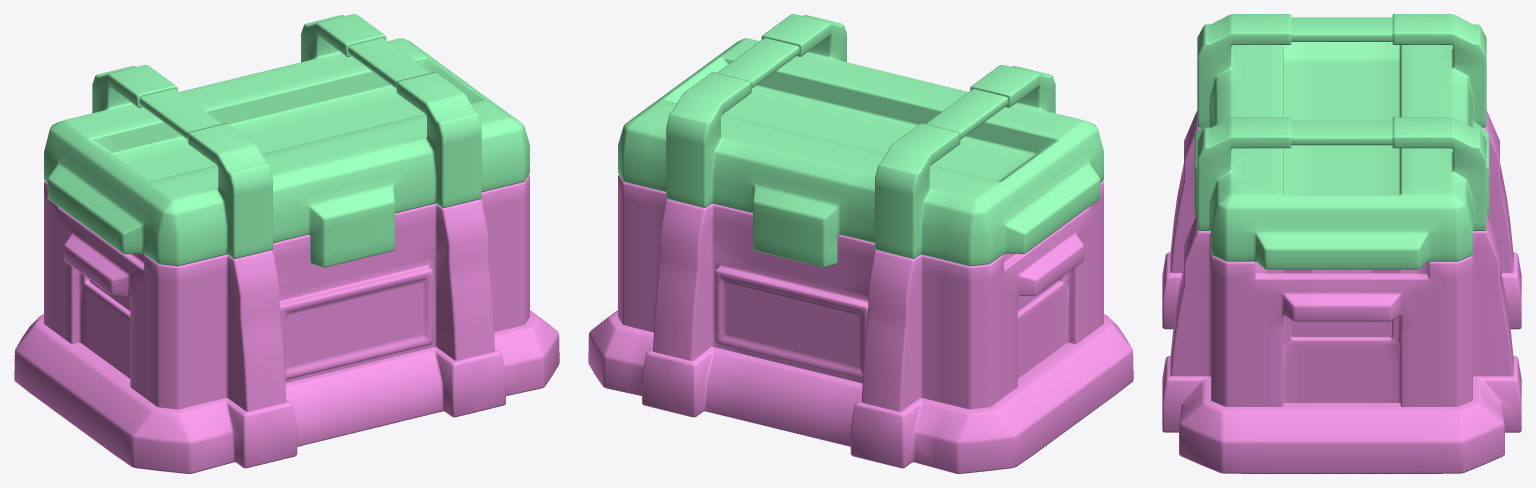
Rendered from RadioActive.fbx.
3 views of the same model, side by side, from view 1: azimuth 30°, elevation 25°; view 2: azimuth 150°, elevation 25°; view 3: azimuth 270°, elevation 25° (orthographic).
Visible parts, largest first — view 1: cajaBase_low NO UV, cajaTapa_low NO UV; view 2: cajaBase_low NO UV, cajaTapa_low NO UV; view 3: cajaBase_low NO UV, cajaTapa_low NO UV.
Boxes of the visible parts, left/top/right/bottom form: cajaBase_low NO UV: left=14, top=175, right=559, bottom=473; cajaTapa_low NO UV: left=44, top=14, right=529, bottom=267; cajaBase_low NO UV: left=588, top=175, right=1133, bottom=473; cajaTapa_low NO UV: left=618, top=14, right=1103, bottom=267; cajaBase_low NO UV: left=1162, top=111, right=1521, bottom=473; cajaTapa_low NO UV: left=1194, top=14, right=1489, bottom=269.
Size of the model in its own units: 115 by 74.17 by 82.28.
